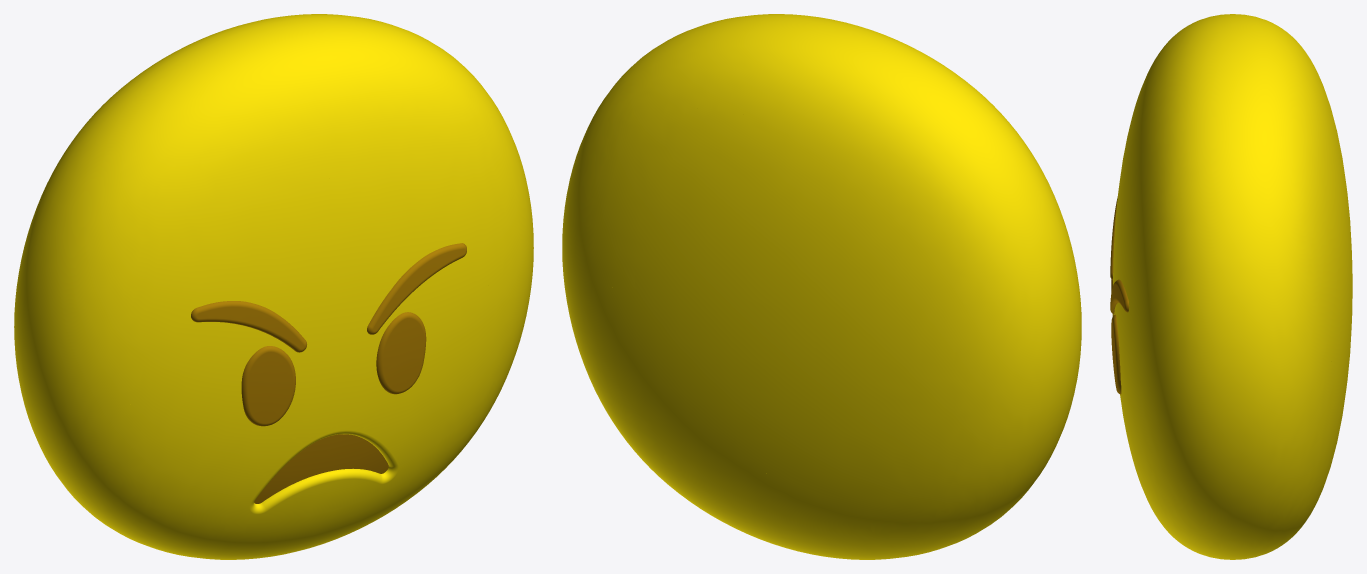
3 renders of one model, left to right at view 1: azimuth 30°, elevation 25°; view 2: azimuth 150°, elevation 25°; view 3: azimuth 270°, elevation 25°, orthographic. The views are drawn at different scales.
Visible parts, largest first — view 1: 014_SmileEmoji_E; view 2: 014_SmileEmoji_E; view 3: 014_SmileEmoji_E.
Boxes of the visible parts, x1,y1,x2,y2 form: 014_SmileEmoji_E: [14, 14, 533, 559]; 014_SmileEmoji_E: [562, 14, 1081, 559]; 014_SmileEmoji_E: [1110, 14, 1352, 559].
Bounding box in the file's own units: 0.1561 × 0.1561 × 0.0704.
